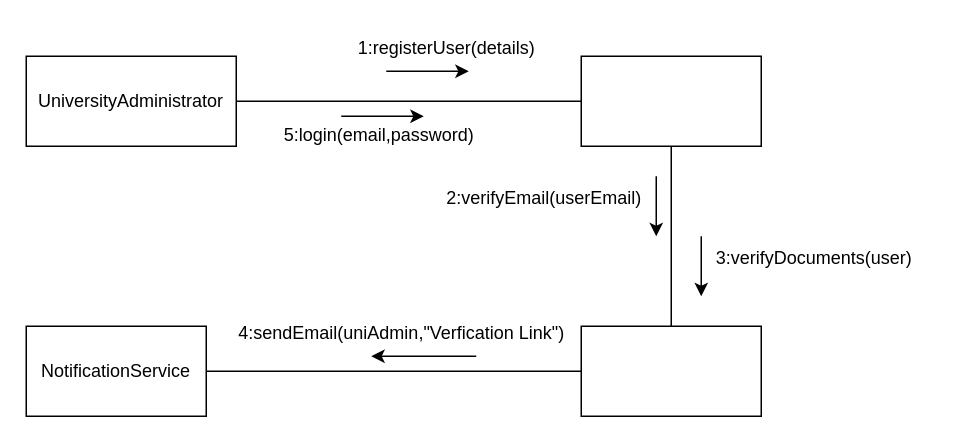
This 953x443 diagram has some shape labels left out. Each missing label, with the centre of its shape:
"AuthenticationService" belongs at (x=670, y=100).
"VerificationService" belongs at (x=670, y=370).
